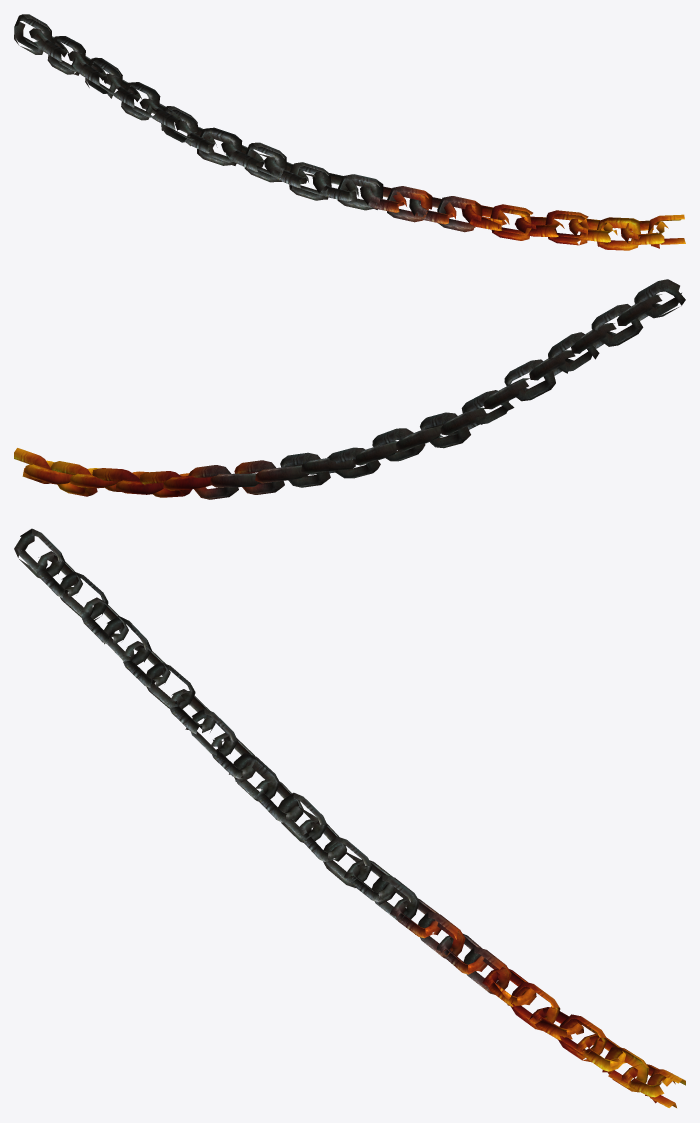
Rendered from S2_Build_XSC118_L3.FBX.
3 views of the same model, one above another, from view 1: azimuth 30°, elevation 25°; view 2: azimuth 150°, elevation 25°; view 3: azimuth 330°, elevation 25° (orthographic). The views are drawn at different scales.
Visible parts, largest first — view 1: S2_Build_XSC118_L3; view 2: S2_Build_XSC118_L3; view 3: S2_Build_XSC118_L3.
Boxes of the visible parts, x1=… form: S2_Build_XSC118_L3: x1=14, y1=14, x2=685, y2=250; S2_Build_XSC118_L3: x1=14, y1=279, x2=685, y2=499; S2_Build_XSC118_L3: x1=14, y1=528, x2=685, y2=1107.
Bounding box in the file's own units: 21026 × 11221 × 2952.
